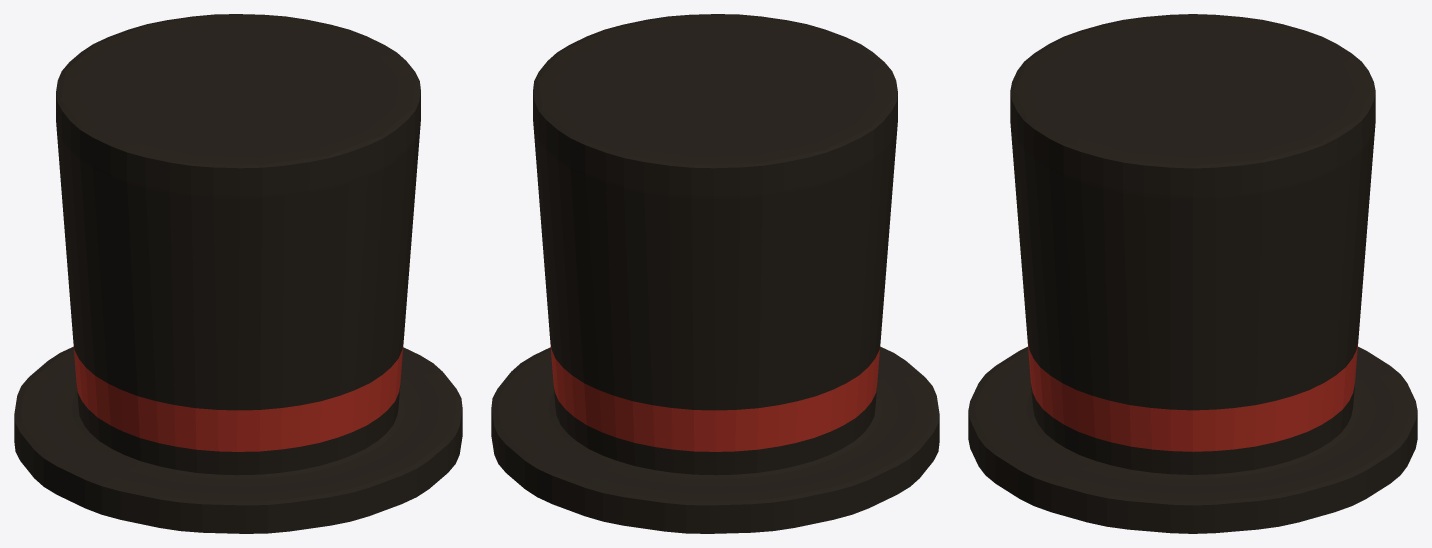
Rendered from TopHat.fbx.
3 renders of one model, left to right at view 1: azimuth 30°, elevation 25°; view 2: azimuth 150°, elevation 25°; view 3: azimuth 270°, elevation 25°, orthographic.
Visible parts, largest first — view 1: Cylinder; view 2: Cylinder; view 3: Cylinder.
Boxes of the visible parts, box(x1,y1,x2,y2) form: Cylinder: box(14, 14, 462, 533); Cylinder: box(491, 14, 939, 533); Cylinder: box(968, 14, 1417, 533).
Size of the model in its own units: 358 by 358 by 309.
